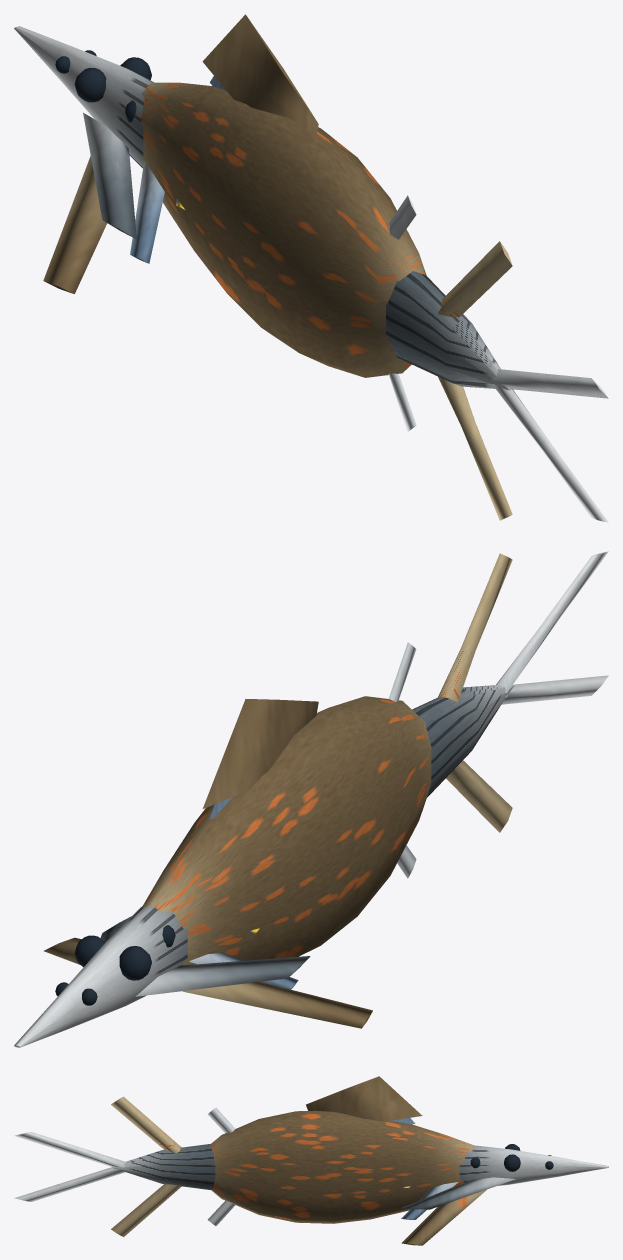
Rendered from fish.glb.
3 views of the same model, one above another, from view 1: azimuth 30°, elevation 25°; view 2: azimuth 150°, elevation 25°; view 3: azimuth 270°, elevation 25° (orthographic). The views are drawn at different scales.
Parts seen in each view (by area): view 1: fish_grouper, fish_barracuda, fish_trevally; view 2: fish_grouper, fish_barracuda, fish_trevally; view 3: fish_grouper, fish_barracuda, fish_trevally.
Part boxes in pixels (box(x1,y1,x2,y2)): fish_grouper: box(43, 14, 512, 520); fish_barracuda: box(14, 26, 608, 522); fish_trevally: box(125, 76, 416, 431); fish_grouper: box(44, 553, 512, 1028); fish_barracuda: box(14, 551, 608, 1047); fish_trevally: box(162, 642, 416, 989); fish_grouper: box(111, 1076, 520, 1245); fish_barracuda: box(14, 1132, 608, 1209); fish_trevally: box(207, 1107, 480, 1225).
Bounding box in the file's own units: 0.384 × 0.3692 × 1.24.
5 materials, 4 textured.
